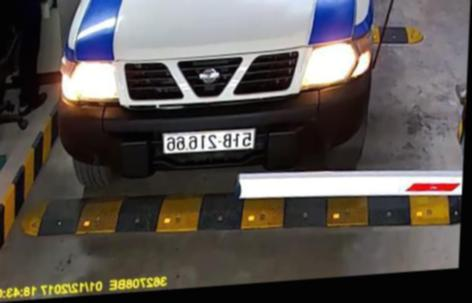License_Plate: (159, 123, 259, 156)
